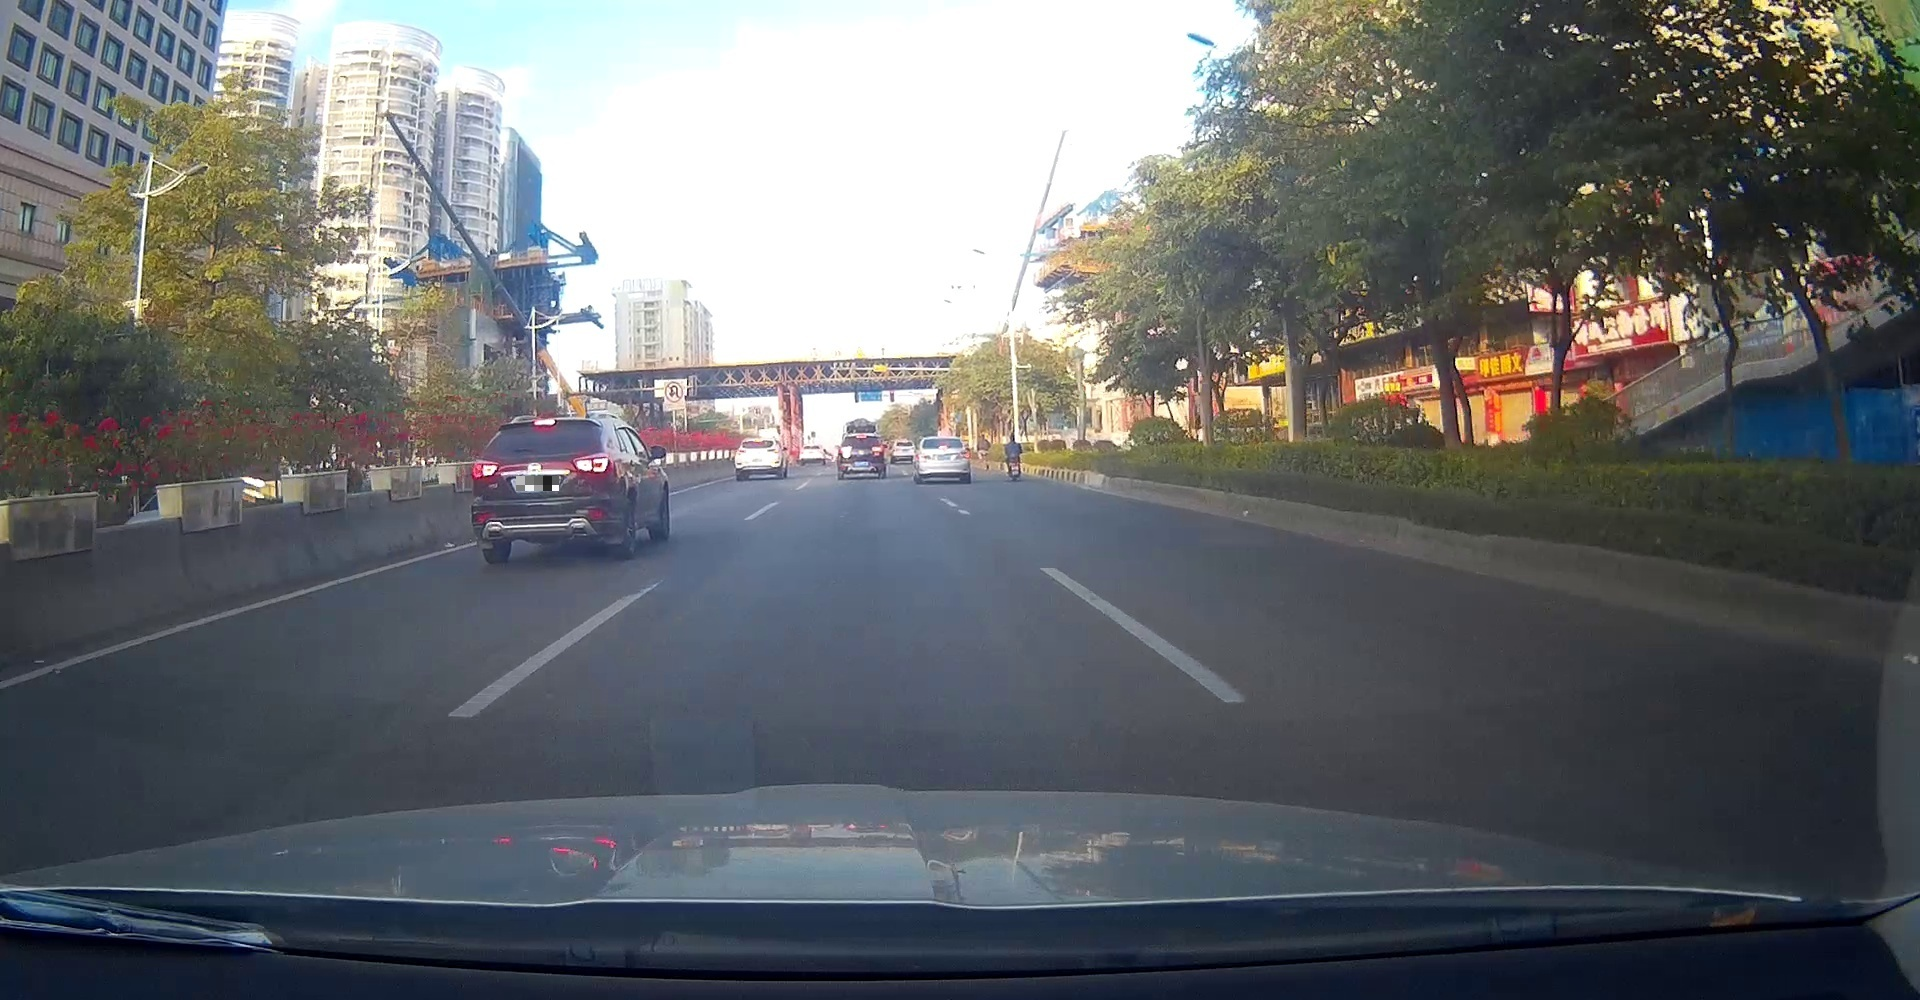L_light: (470, 458, 500, 481), (837, 445, 852, 456), (916, 454, 930, 462)
R_light: (571, 451, 615, 480), (871, 445, 884, 456), (960, 451, 970, 459)
T_light: (532, 418, 556, 426), (856, 434, 867, 440), (938, 445, 949, 451)
day-brake: (469, 415, 630, 563)
day-no: (916, 437, 971, 484), (836, 433, 885, 478)
plate_1: (516, 476, 559, 491)
